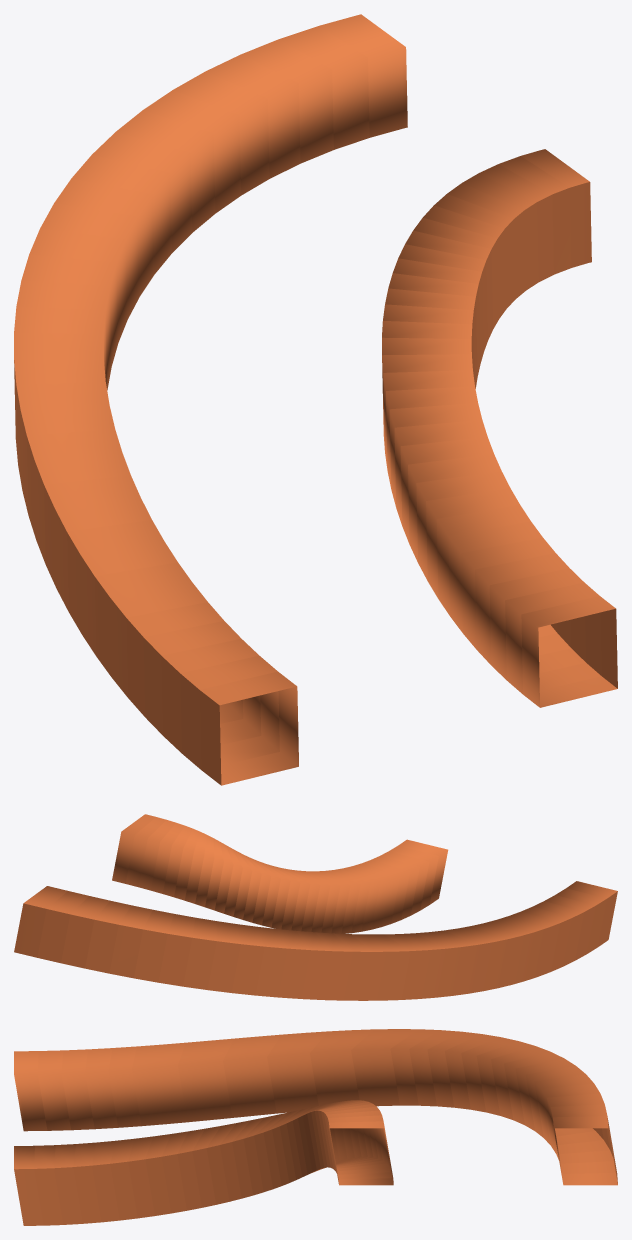
The model's file is RampCurveRightSand.fbx.
3 views of the same model, one above another, from view 1: azimuth 30°, elevation 25°; view 2: azimuth 150°, elevation 25°; view 3: azimuth 270°, elevation 25° (orthographic). The views are drawn at different scales.
Visible parts, largest first — view 1: sand.002, sand.016, sand.015, sand.033, sand.014, sand.013, sand.003, sand.012, sand.004, sand.032, sand.005, sand.006 (+22 smaller); view 2: sand.015, sand.014, sand.016, sand.013, sand.012, sand.011, sand.010, sand.009, sand.008, sand.007, sand.006, sand.005 (+22 smaller); view 3: sand.002, sand.003, sand.004, sand.005, sand.006, sand.007, sand.033, sand.032, sand.009, sand.008, sand.010, sand.031 (+22 smaller).
Boxes of the visible parts, <box> form: sand.002: <box>161,638,279,769</box>; sand.016: <box>241,26,369,163</box>; sand.015: <box>173,54,300,195</box>; sand.033: <box>489,568,601,694</box>; sand.014: <box>116,90,241,232</box>; sand.013: <box>72,132,192,273</box>; sand.003: <box>126,602,243,735</box>; sand.012: <box>40,178,154,319</box>; sand.004: <box>94,562,207,697</box>; sand.032: <box>461,537,571,664</box>; sand.005: <box>67,520,177,655</box>; sand.006: <box>44,475,151,611</box>; sand.015: <box>85,900,152,978</box>; sand.014: <box>134,909,195,986</box>; sand.016: <box>37,891,109,968</box>; sand.013: <box>183,917,240,992</box>; sand.012: <box>232,924,287,997</box>; sand.011: <box>277,929,332,999</box>; sand.010: <box>315,932,373,1000</box>; sand.009: <box>351,934,410,1000</box>; sand.008: <box>384,933,445,999</box>; sand.007: <box>416,930,477,997</box>; sand.006: <box>444,926,506,993</box>; sand.005: <box>472,920,534,988</box>; sand.002: <box>38,1049,94,1130</box>; sand.003: <box>85,1046,141,1129</box>; sand.004: <box>132,1042,187,1125</box>; sand.005: <box>178,1038,233,1122</box>; sand.006: <box>223,1034,281,1117</box>; sand.007: <box>267,1031,328,1113</box>; sand.033: <box>34,1144,82,1225</box>; sand.032: <box>73,1140,119,1223</box>; sand.009: <box>351,1029,418,1106</box>; sand.008: <box>310,1029,374,1105</box>; sand.010: <box>390,1029,460,1106</box>; sand.031: <box>110,1136,154,1220</box>.
Bounding box in the file's own units: 1482 × 596 × 1992.
